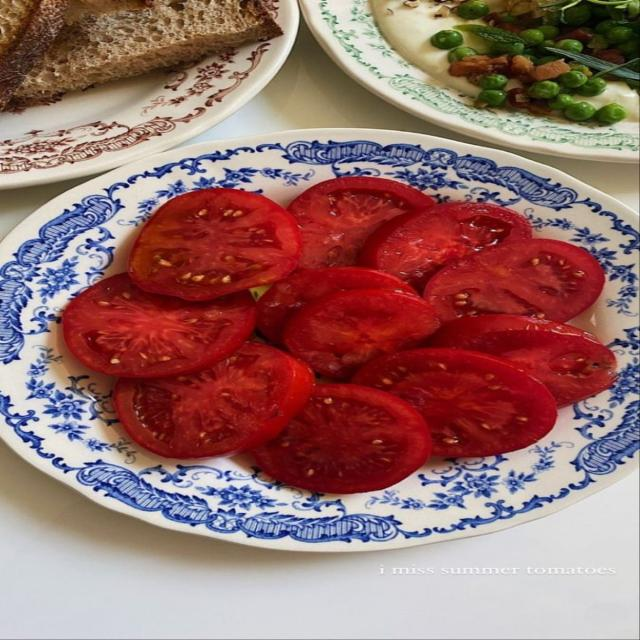sliced_bread: (14, 0, 281, 105), (0, 0, 67, 110)
sliced_tomato: (114, 343, 313, 458), (353, 349, 556, 457), (62, 274, 255, 377), (253, 384, 431, 493), (128, 189, 301, 300), (359, 203, 531, 290), (424, 239, 604, 322), (434, 330, 616, 406), (284, 290, 439, 379), (289, 177, 433, 267), (257, 267, 414, 341), (429, 314, 596, 349)
